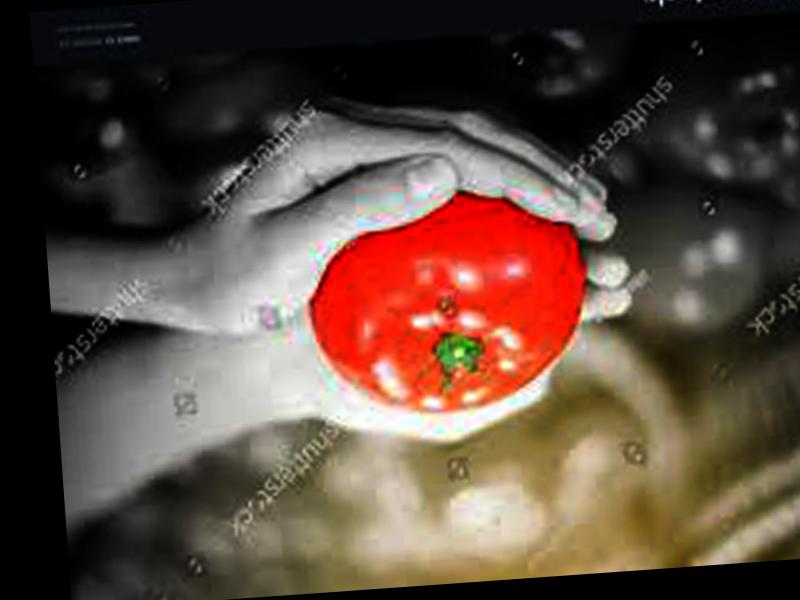Tomato: (303, 185, 592, 420)
